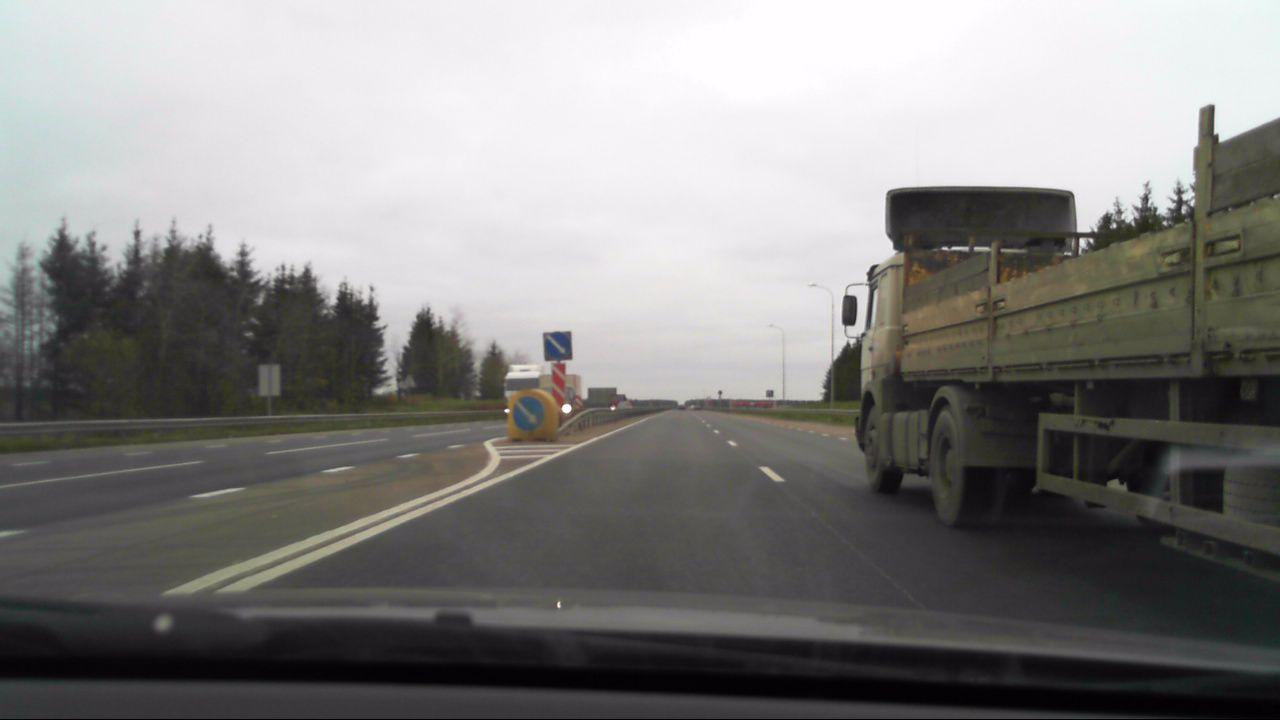4_2_1: (512, 395, 543, 431), (542, 329, 573, 361)
8_22_1: (551, 363, 564, 408)
